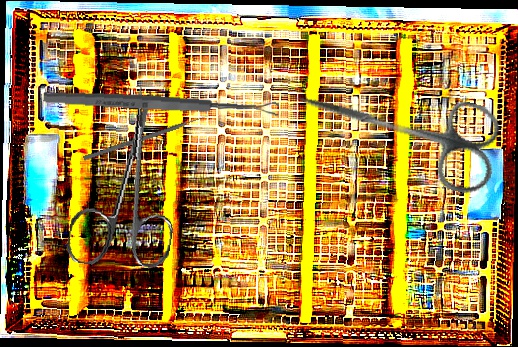Iris Scissors: (282, 58, 508, 199), (64, 79, 195, 277)
Pusher: (82, 111, 214, 162)
Surgical Spoon: (43, 89, 279, 118)
